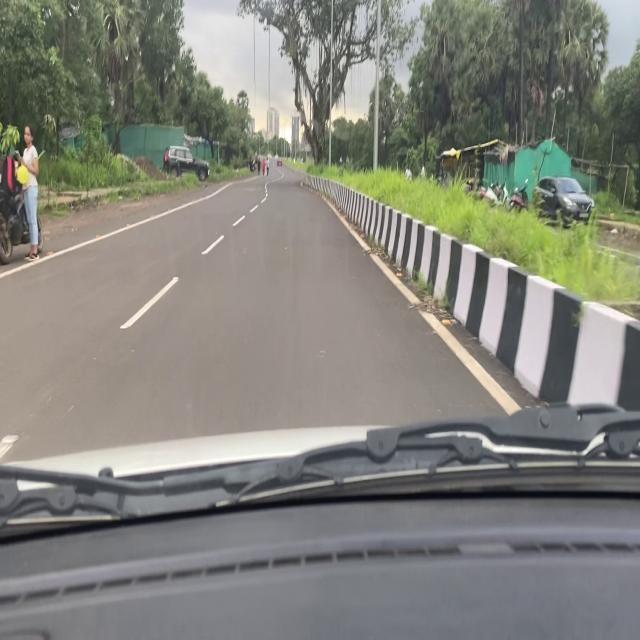lane: (1, 195, 261, 460), (307, 186, 532, 416), (1, 178, 244, 285)
